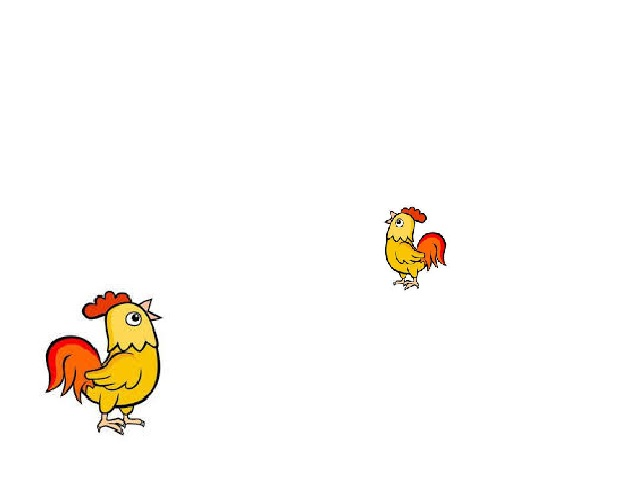crown: (81, 293, 135, 316), (403, 208, 428, 225)
eyes: (127, 310, 144, 327), (396, 215, 408, 228)
feet: (97, 415, 146, 434), (394, 276, 419, 292)
tail: (43, 336, 104, 400), (419, 233, 448, 271)
